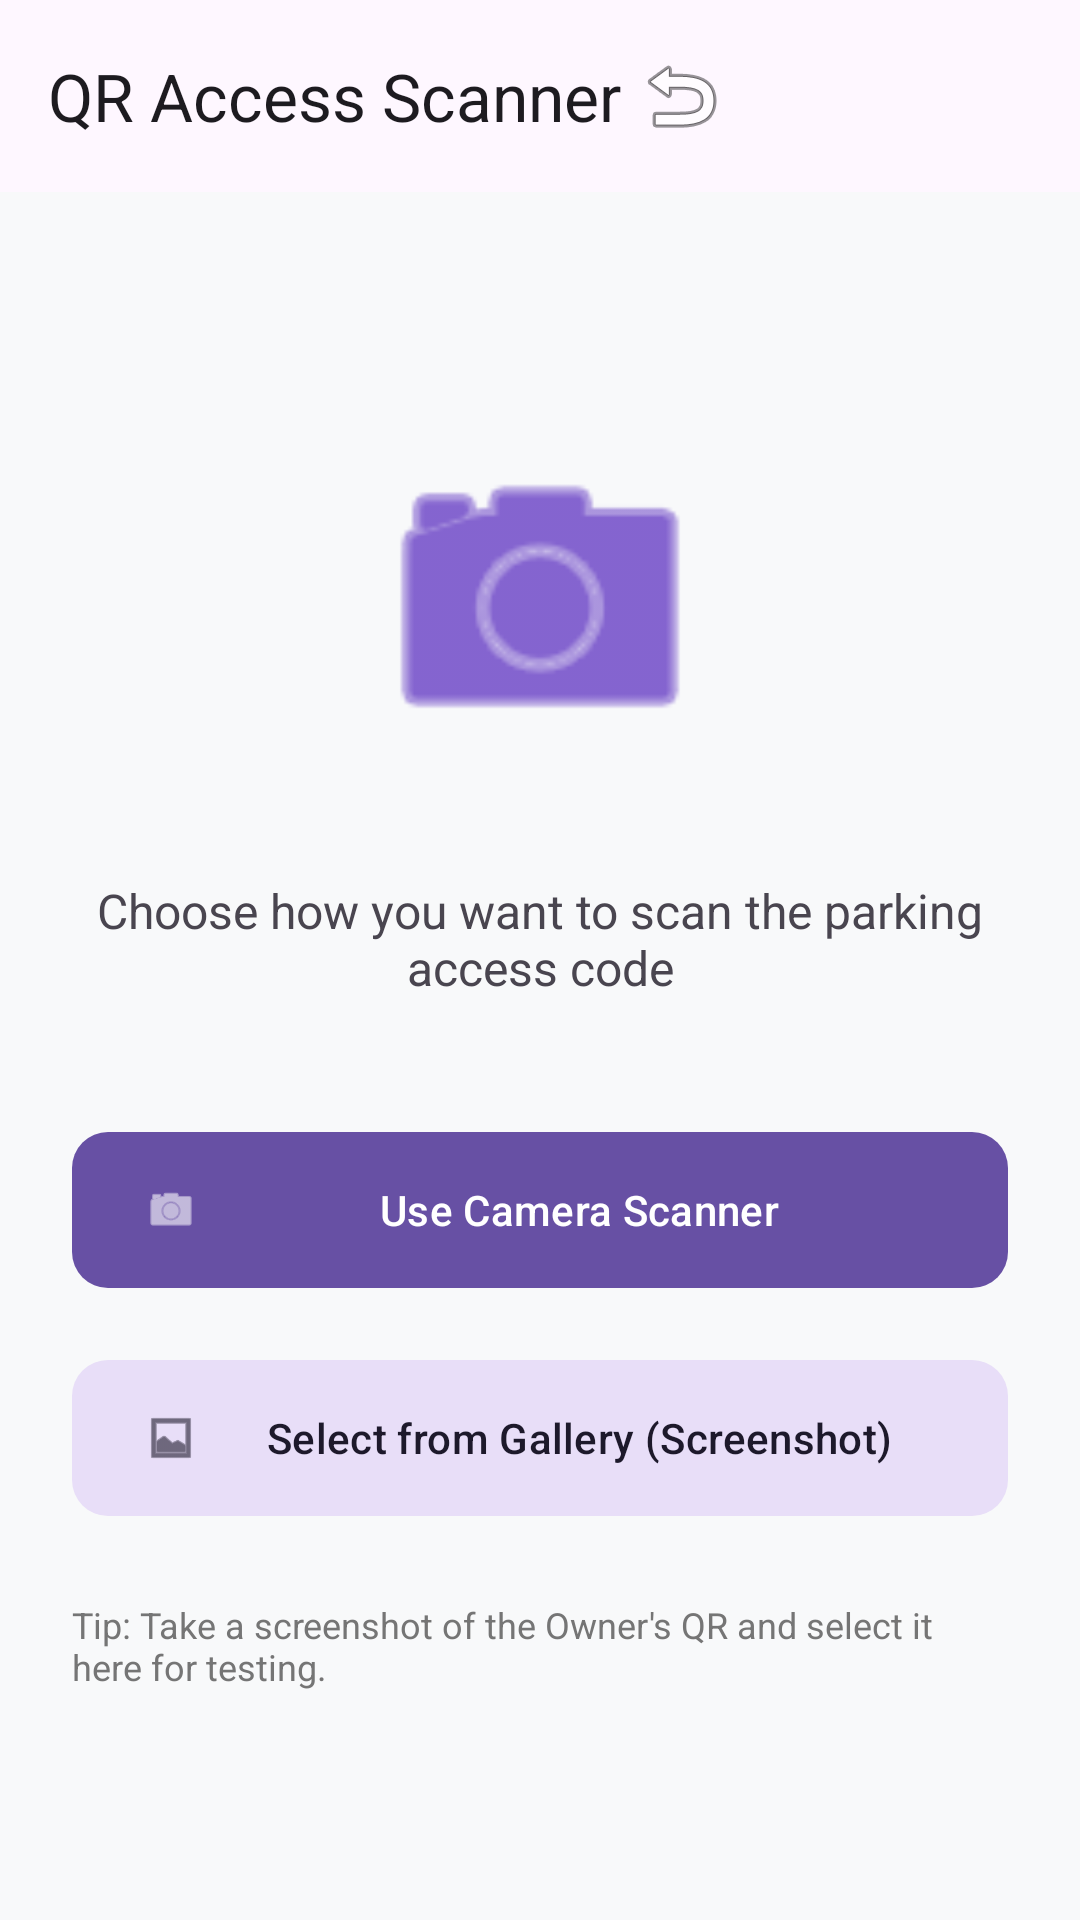

Icons on this 1080w x 1920h Android screen, each with its box as (x1, y1, x2, y2):
camera: (401, 485, 679, 707)
revert: (648, 65, 717, 128)
